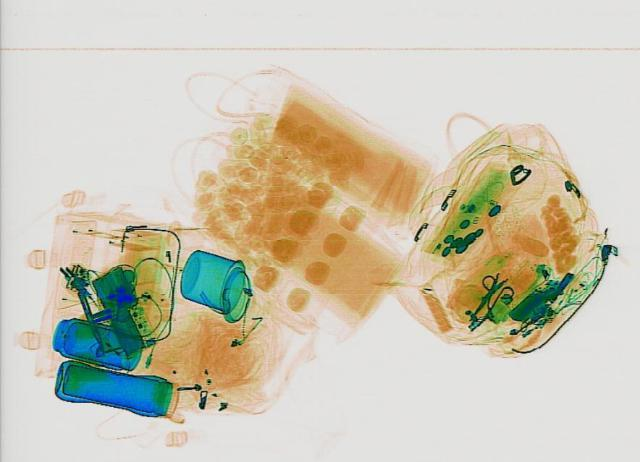Scissors: (458, 272, 520, 322)
